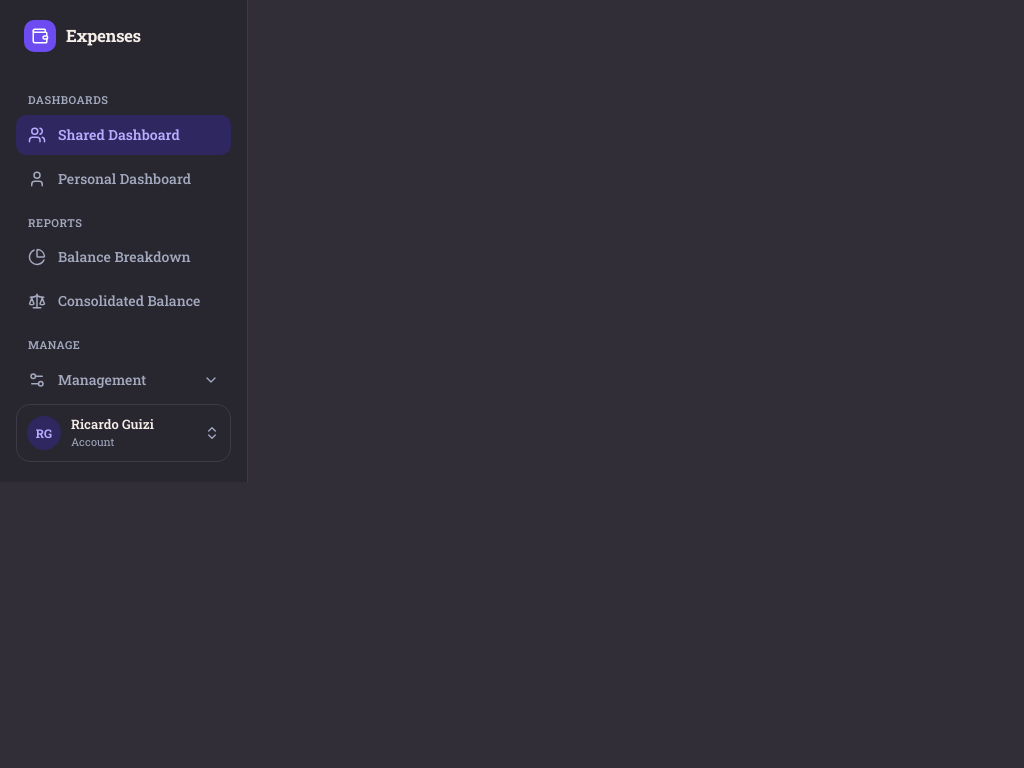
Test: AppSidebar theme item › switches the theme, keeps the choice and leaves the menu open
This screenshot has width=1024, height=768.
Click the button with aria-label "Account menu".
click(124, 432)  # box [16, 404, 231, 462]
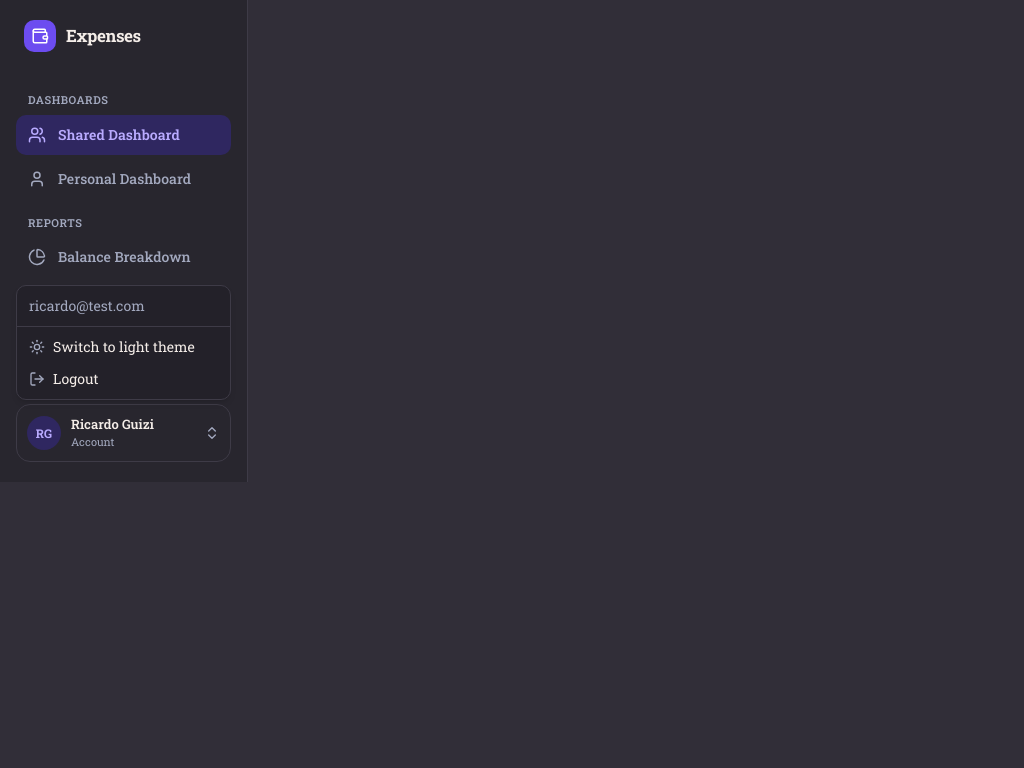
Click the menu item "Switch to light theme".
click(112, 346)  # box [29, 337, 195, 356]
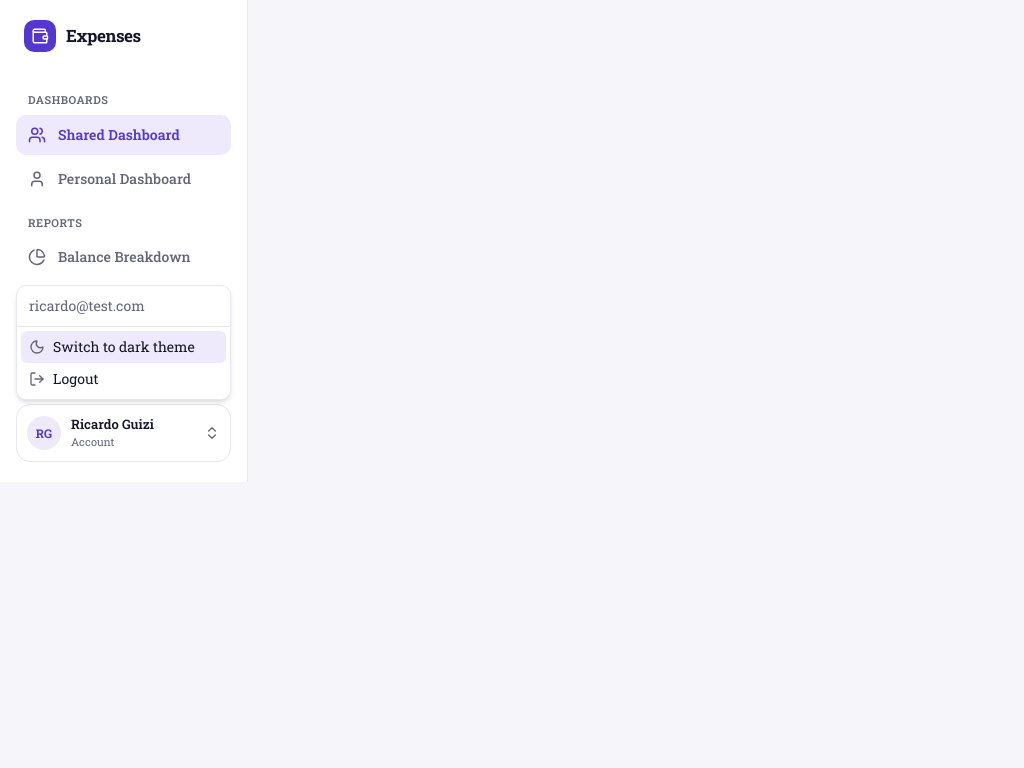
Now the menu item "Switch to dark theme" is shown, box [21, 331, 226, 363]
